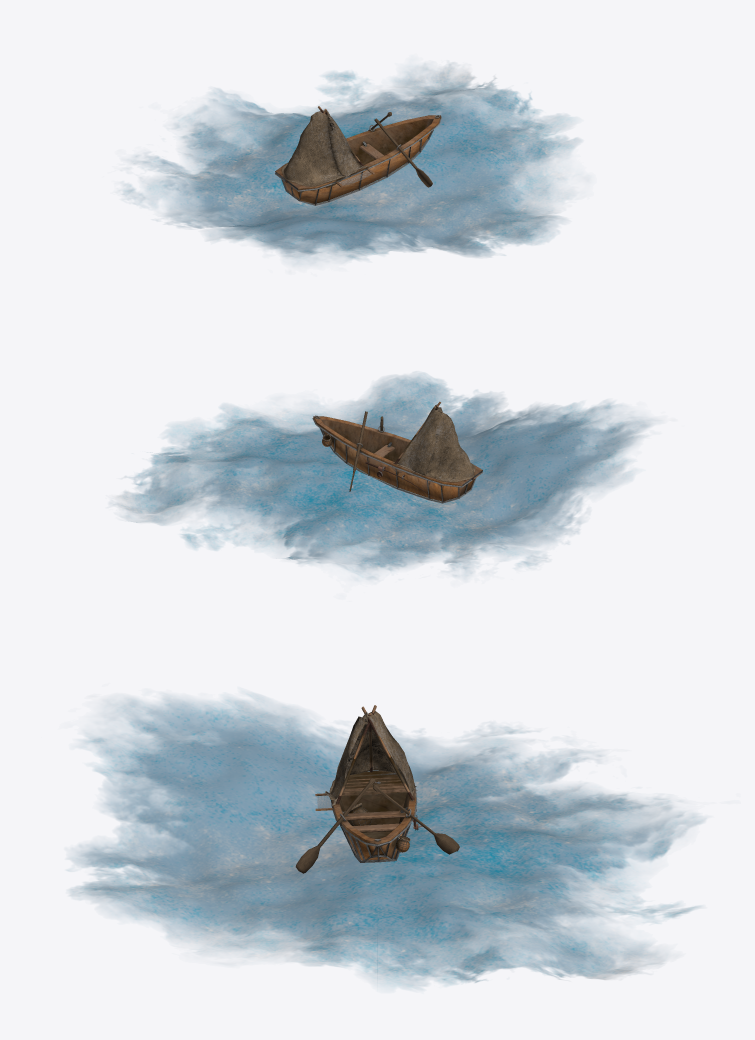
Rendered from fishing_boat.glb.
3 renders of one model, top to bottom at view 1: azimuth 30°, elevation 25°; view 2: azimuth 150°, elevation 25°; view 3: azimuth 270°, elevation 25°, orthographic. The views are drawn at different scales.
Parts seen in each view (by area): view 1: Plane.002_1, Cube.011_0; view 2: Plane.002_1, Cube.011_0; view 3: Plane.002_1, Cube.011_0.
Boxes of the visible parts, x1,y1,x2,y2 form: Plane.002_1: [119, 62, 581, 265]; Cube.011_0: [275, 106, 441, 205]; Plane.002_1: [109, 372, 659, 579]; Cube.011_0: [312, 401, 482, 503]; Plane.002_1: [67, 693, 705, 989]; Cube.011_0: [295, 705, 459, 873].
Size of the model in its own units: 73.99 by 15.03 by 73.99.
Materials: 2 (2 with a texture image).
